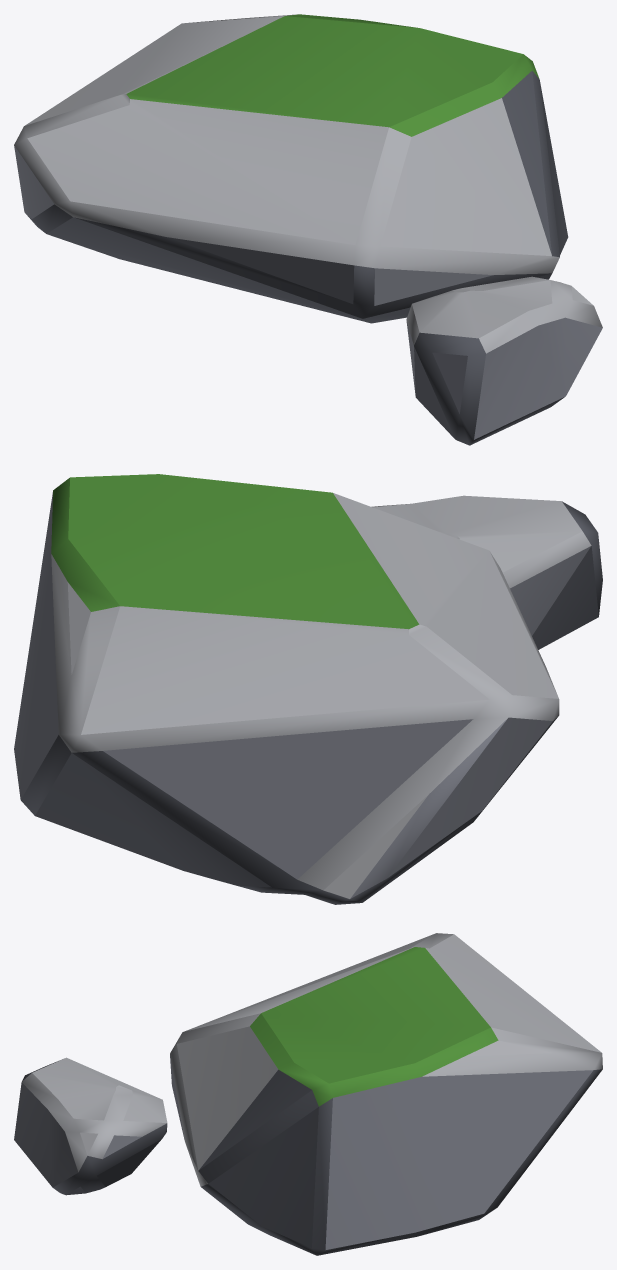
The model's file is Rock_15.glb.
3 renders of one model, top to bottom at view 1: azimuth 30°, elevation 25°; view 2: azimuth 150°, elevation 25°; view 3: azimuth 270°, elevation 25°, orthographic. The views are drawn at different scales.
Parts seen in each view (by area): view 1: Rock_15; view 2: Rock_15; view 3: Rock_15.
Boxes of the visible parts, box(x1,y1,x2,y2) form: Rock_15: box(14, 14, 602, 445); Rock_15: box(14, 474, 602, 904); Rock_15: box(14, 933, 602, 1255).
Size of the model in its own units: 2.07 by 0.8337 by 2.71.
